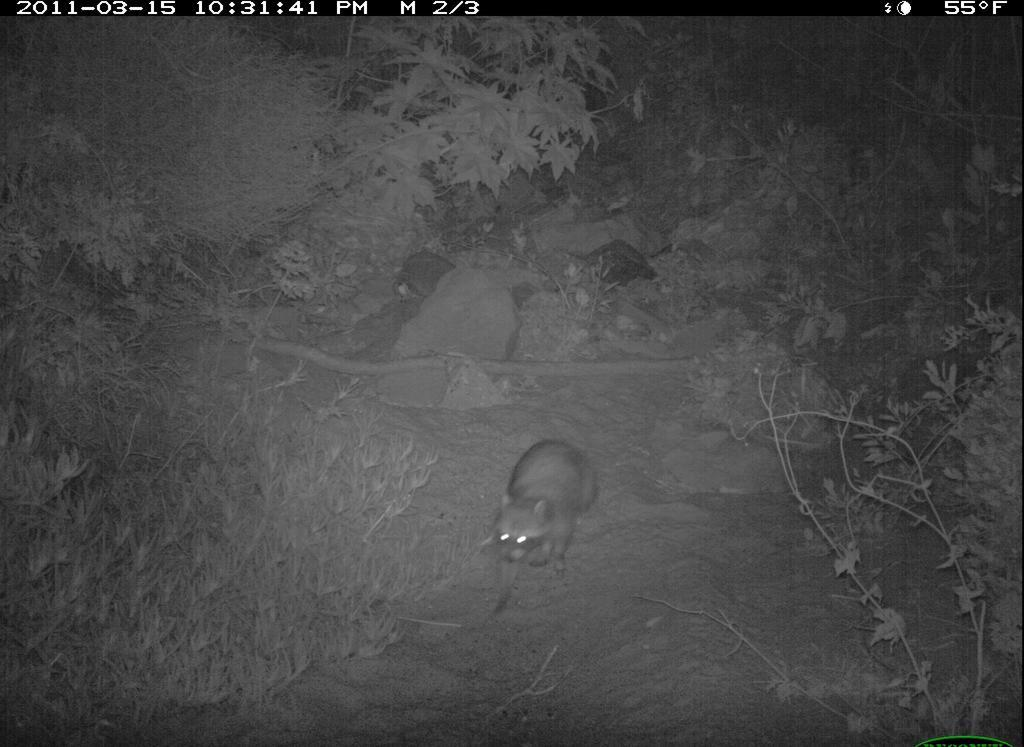raccoon: (488, 423, 603, 593)
